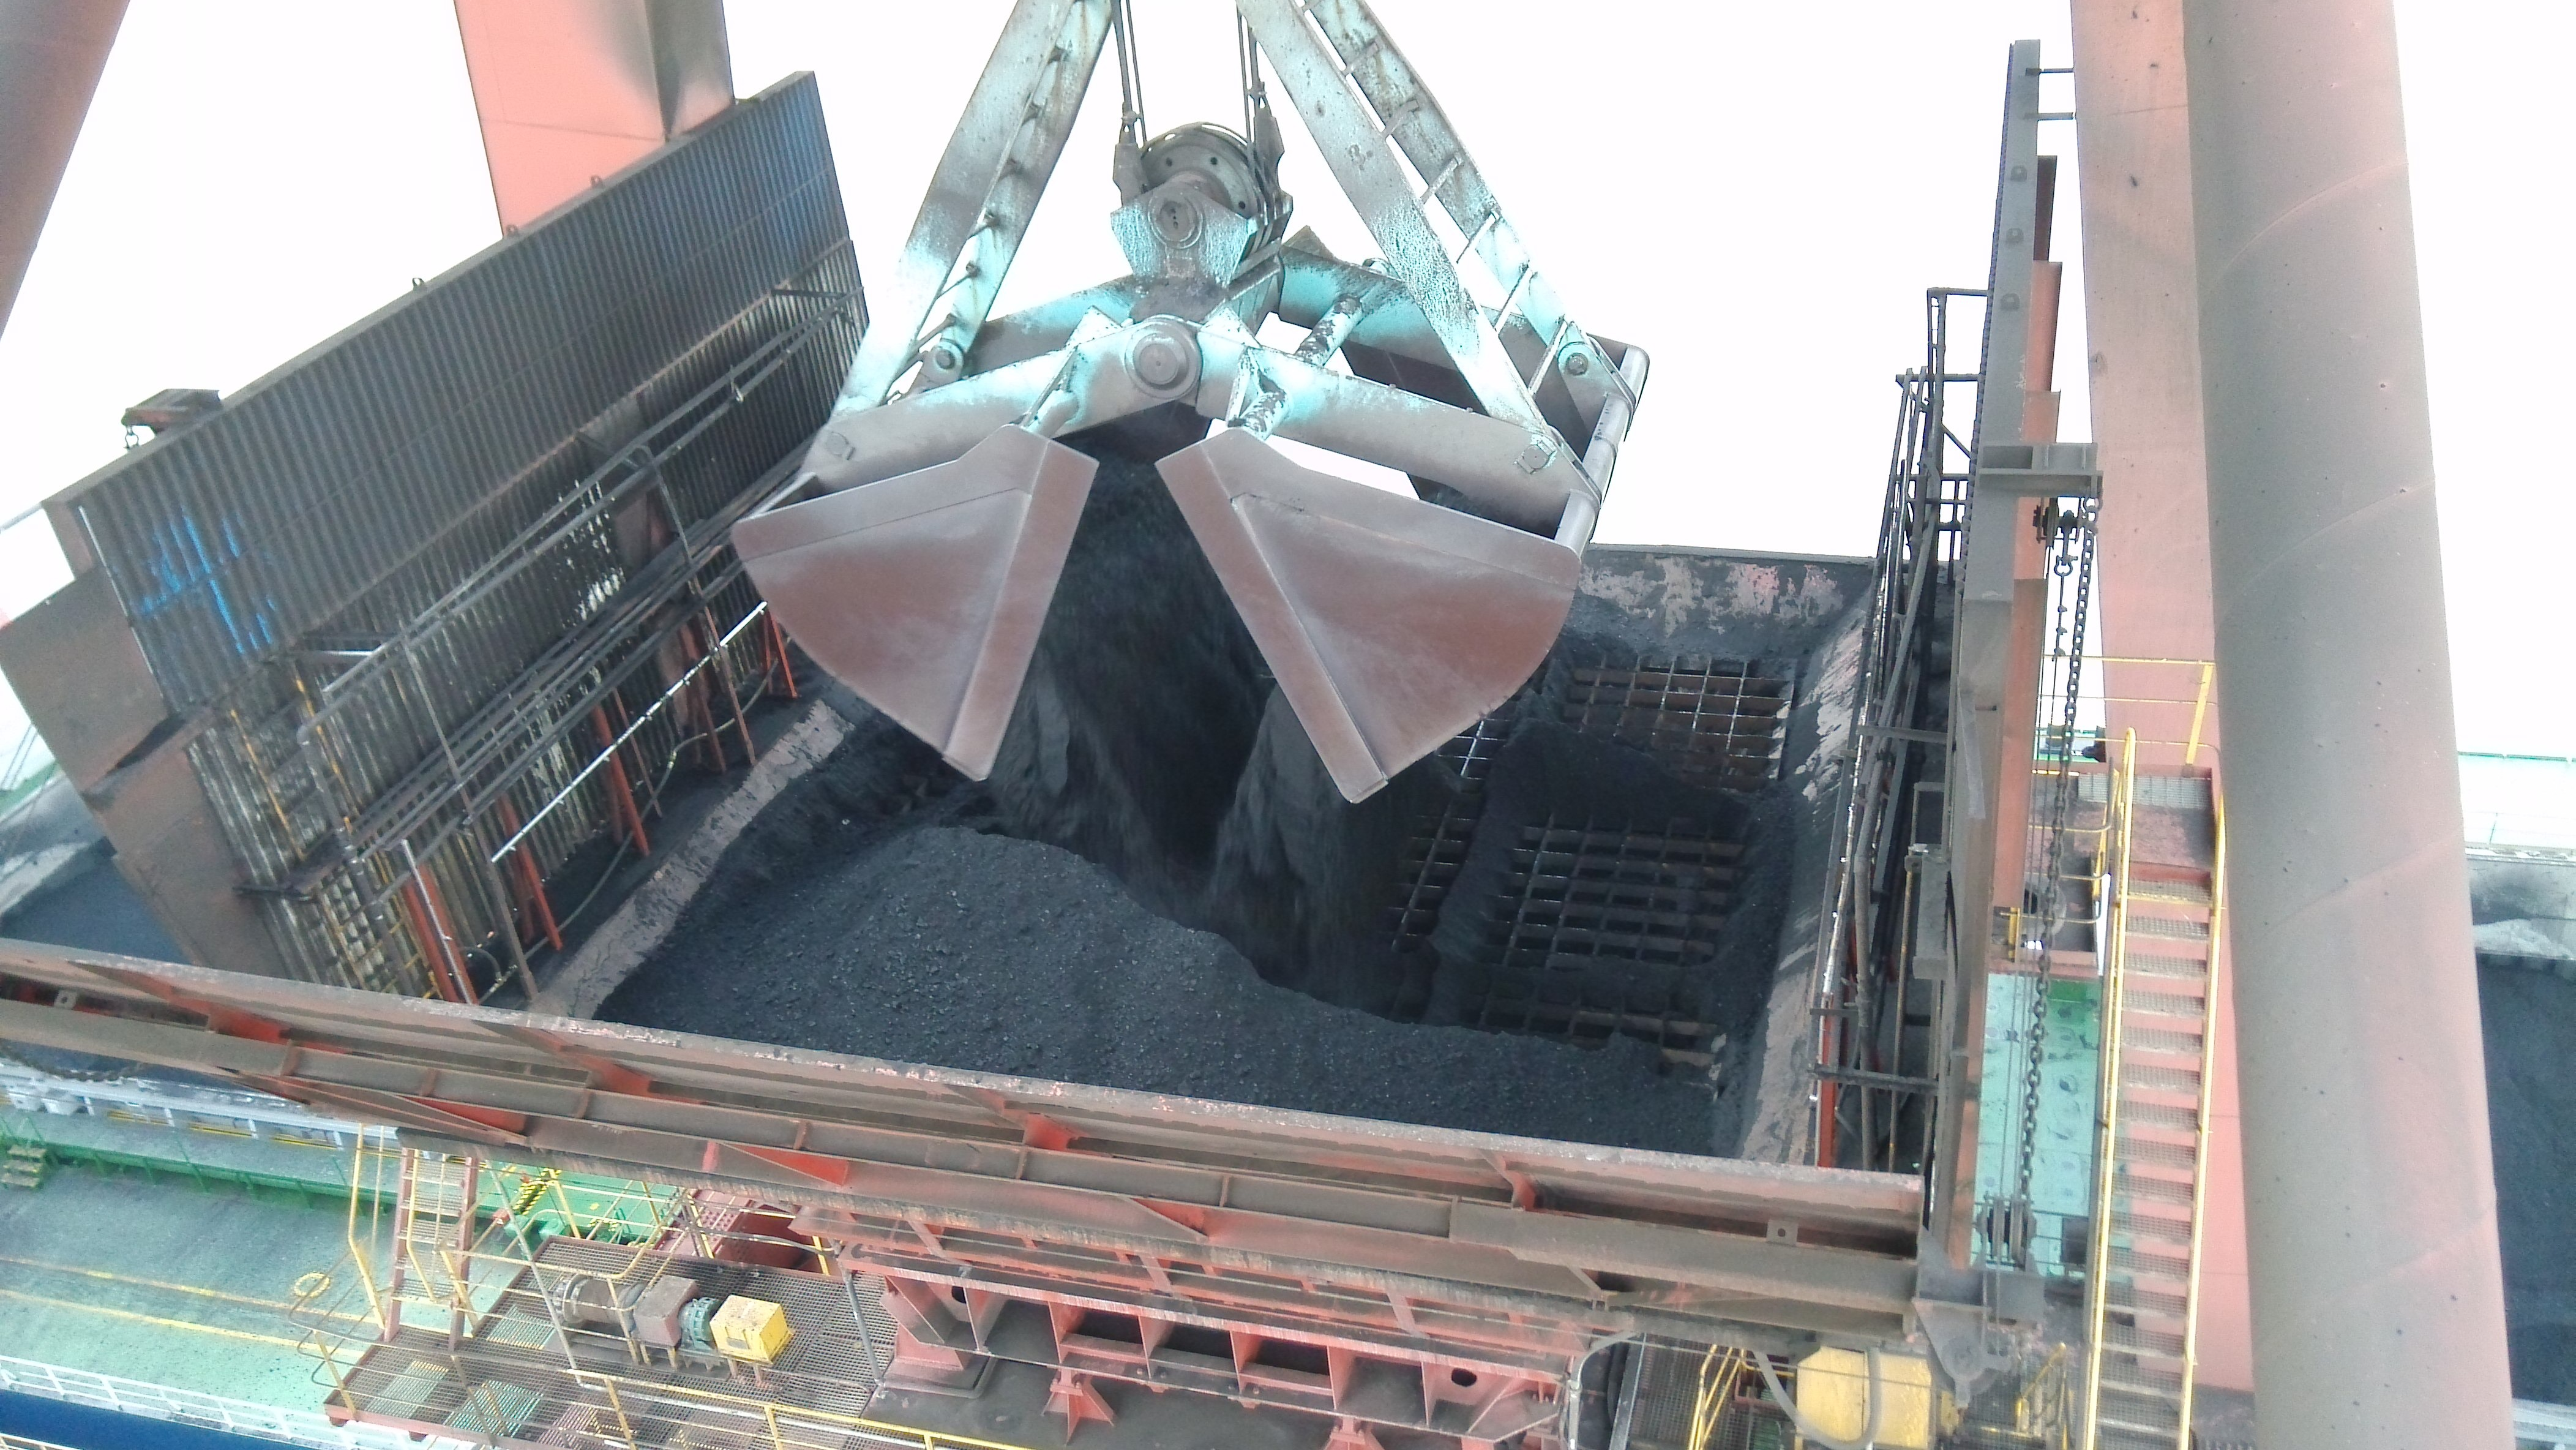grab: (724, 0, 1635, 806)
